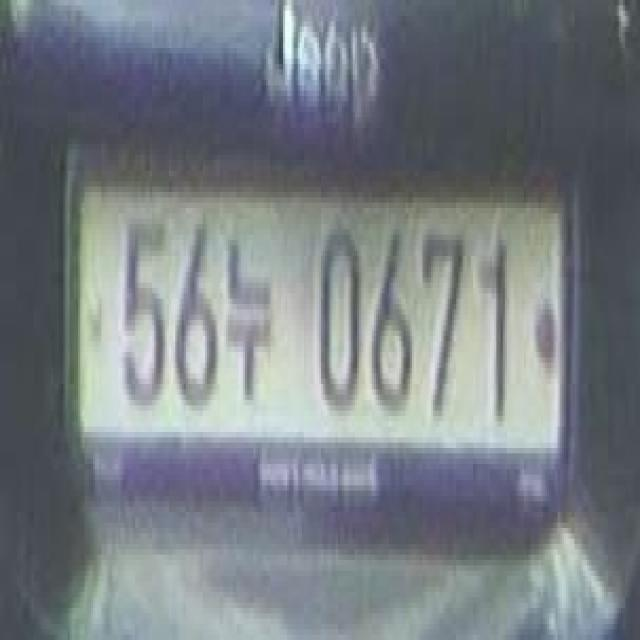0: (313, 213, 363, 415)
1: (469, 220, 515, 422)
5: (116, 205, 168, 408)
6: (172, 204, 220, 414), (368, 210, 414, 418)
7: (417, 209, 465, 418)
license_plate: (63, 125, 578, 516)
nu: (223, 210, 274, 416)
